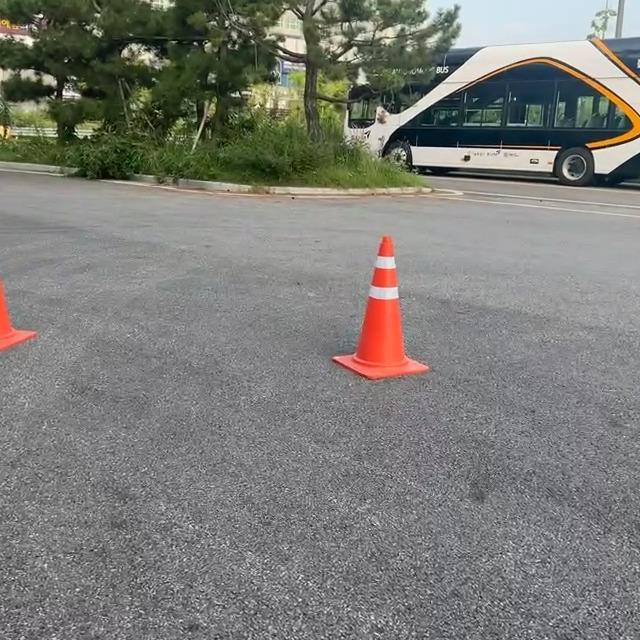fallen_object: (300, 220, 454, 421), (0, 265, 72, 373)
